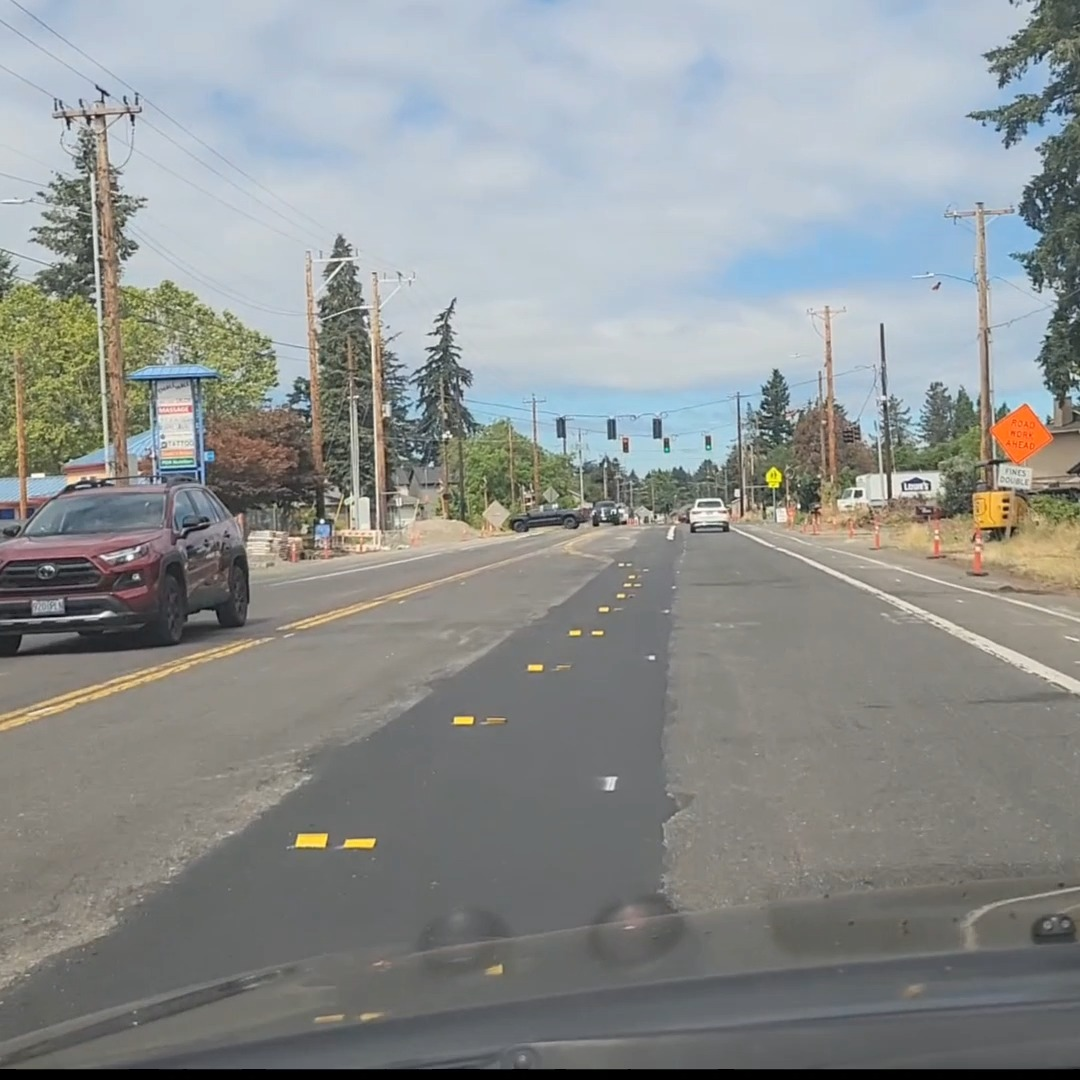car: (0, 476, 253, 650), (507, 502, 594, 532), (688, 498, 732, 532)
crosswalk-sign: (765, 466, 782, 487)
delineator: (965, 529, 988, 575), (926, 513, 947, 560), (870, 516, 882, 549), (847, 515, 856, 538), (810, 512, 819, 534), (801, 513, 809, 532)
